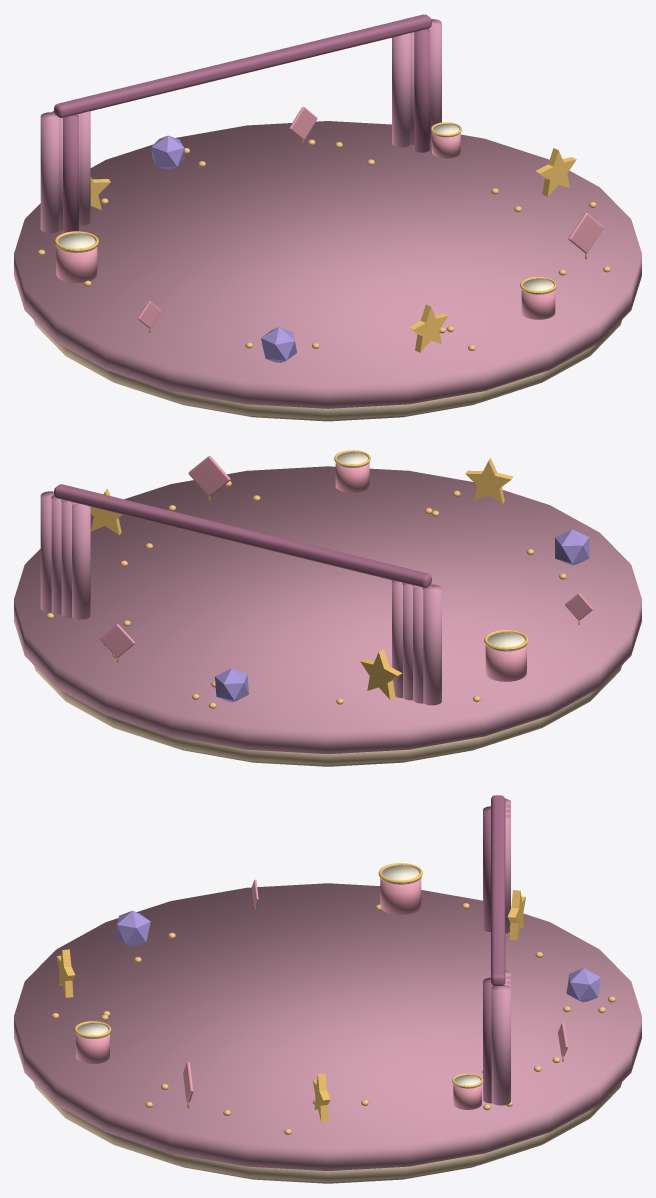
The model's file is world.glb.
3 views of the same model, one above another, from view 1: azimuth 30°, elevation 25°; view 2: azimuth 150°, elevation 25°; view 3: azimuth 270°, elevation 25° (orthographic).
Parts seen in each view (by area): view 1: Cone, Cone.001, Cube, Cone.004, Cone.009, Cone.008, drum.002, Cone.003, drum.003, Cone.007, Cone.012, drum.001 (+5 smaller); view 2: Cone, Cone.001, Cube, Cone.004, Cone.009, drum.002, Cone.012, drum.003, Cone.010, Cone.005, Cone.011, Cone.007 (+9 smaller); view 3: Cone, Cone.001, Cube, Cone.012, drum.002, drum.003, Cone.008, drum.001, Cone.003, gem.002, gem.001, Cone.007 (+3 smaller).
Boxes of the visible parts, x1,y1,x2,y2 form: Cone: [14, 121, 641, 408]; Cone.001: [34, 320, 621, 420]; Cube: [54, 14, 431, 117]; Cone.004: [40, 112, 59, 233]; Cone.009: [392, 33, 410, 147]; Cone.008: [413, 28, 430, 152]; drum.002: [54, 231, 98, 283]; Cone.003: [62, 114, 78, 233]; drum.003: [520, 277, 556, 319]; Cone.007: [79, 111, 90, 225]; Cone.012: [431, 19, 441, 139]; drum.001: [431, 122, 461, 158]; Cone: [14, 466, 641, 754]; Cone.001: [34, 666, 621, 765]; Cube: [54, 484, 431, 587]; Cone.004: [422, 584, 441, 705]; Cone.009: [71, 502, 90, 619]; drum.002: [484, 630, 528, 681]; Cone.012: [40, 491, 55, 612]; drum.003: [334, 450, 370, 492]; Cone.010: [61, 499, 76, 617]; Cone.005: [412, 584, 431, 702]; Cone.011: [51, 495, 63, 614]; Cone.007: [392, 580, 402, 697]; Cone: [14, 883, 641, 1170]; Cone.001: [34, 1082, 621, 1182]; Cube: [491, 795, 505, 985]; Cone.012: [491, 985, 510, 1105]; drum.002: [378, 863, 422, 914]; drum.003: [74, 1021, 111, 1063]; Cone.008: [483, 977, 492, 1103]; drum.001: [452, 1073, 483, 1109]; Cone.003: [483, 806, 490, 931]; gem.002: [114, 910, 150, 946]; gem.001: [566, 968, 600, 1002]; Cone.007: [505, 814, 510, 933].
Bounding box in the file's own units: 9.6 × 2.98 × 9.6.
